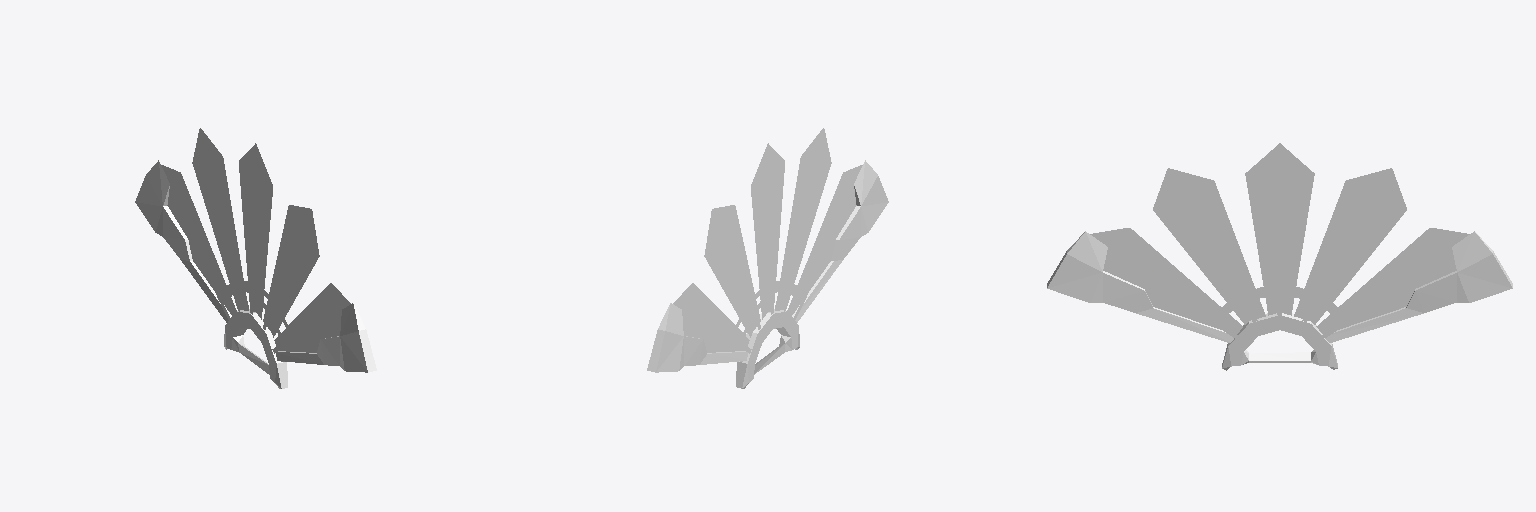
The model's file is macabredancer01.obj.
The picture shows the model from 3 angles: view 1: azimuth 30°, elevation 25°; view 2: azimuth 150°, elevation 25°; view 3: azimuth 270°, elevation 25°; orthographic projection.
Parts seen in each view (by area): view 1: MDL_w2dfn01l_bld00_003, MDL_w2dfn01l_bld00_001, MDL_w2dfn01l_bld00.005, MDL_w2dfn01l_bod00.001, MDL_w2dfn01l_grd01.001, MDL_w2dfn01l_grd00.001, MDL_w2dfn01l_bld00_002, MDL_w2dfn01l_bld00_004; view 2: MDL_w2dfn01l_bld00_001, MDL_w2dfn01l_bld00_003, MDL_w2dfn01l_bld00.005, MDL_w2dfn01l_bod00.001, MDL_w2dfn01l_grd00.001, MDL_w2dfn01l_grd01.001, MDL_w2dfn01l_bld00_004, MDL_w2dfn01l_bld00_002; view 3: MDL_w2dfn01l_bld00_001, MDL_w2dfn01l_bld00_003, MDL_w2dfn01l_bld00.005, MDL_w2dfn01l_bod00.001, MDL_w2dfn01l_bld00_004, MDL_w2dfn01l_bld00_002, MDL_w2dfn01l_grd01.001, MDL_w2dfn01l_grd00.001.
Boxes of the visible parts, <box> form: MDL_w2dfn01l_bld00_003: <box>263,205,319,337</box>; MDL_w2dfn01l_bld00_001: <box>192,128,248,310</box>; MDL_w2dfn01l_bld00.005: <box>239,143,272,319</box>; MDL_w2dfn01l_bod00.001: <box>203,250,299,388</box>; MDL_w2dfn01l_grd01.001: <box>135,160,231,322</box>; MDL_w2dfn01l_grd00.001: <box>276,303,376,372</box>; MDL_w2dfn01l_bld00_002: <box>161,165,236,314</box>; MDL_w2dfn01l_bld00_004: <box>274,283,350,361</box>; MDL_w2dfn01l_bld00_001: <box>704,205,760,337</box>; MDL_w2dfn01l_bld00_003: <box>775,128,831,310</box>; MDL_w2dfn01l_bld00.005: <box>751,143,784,319</box>; MDL_w2dfn01l_bod00.001: <box>725,250,820,388</box>; MDL_w2dfn01l_grd00.001: <box>792,160,888,322</box>; MDL_w2dfn01l_grd01.001: <box>647,303,747,372</box>; MDL_w2dfn01l_bld00_004: <box>787,165,862,314</box>; MDL_w2dfn01l_bld00_002: <box>673,283,749,361</box>; MDL_w2dfn01l_bld00_001: <box>1294,168,1406,324</box>; MDL_w2dfn01l_bld00_003: <box>1153,168,1265,324</box>; MDL_w2dfn01l_bld00.005: <box>1245,143,1314,315</box>; MDL_w2dfn01l_bod00.001: <box>1184,259,1375,370</box>; MDL_w2dfn01l_bld00_004: <box>1090,228,1242,333</box>; MDL_w2dfn01l_bld00_002: <box>1316,228,1469,333</box>; MDL_w2dfn01l_grd01.001: <box>1325,231,1512,342</box>; MDL_w2dfn01l_grd00.001: <box>1047,231,1233,342</box>.
Size of the model in its own units: 0.0356 by 0.6622 by 1.24.